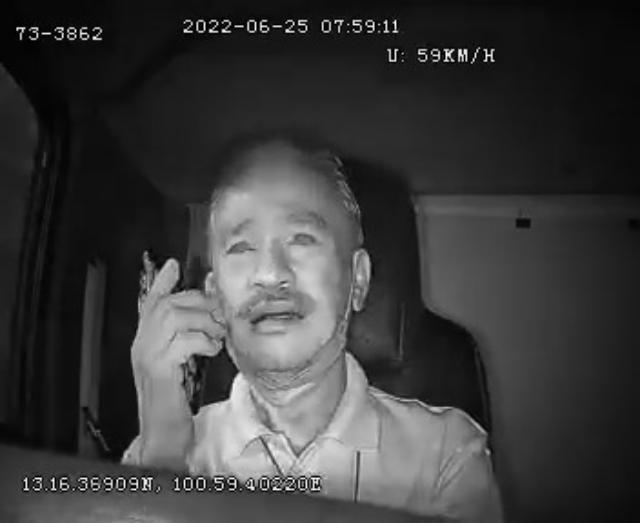PhoneUse: (132, 246, 208, 416)
SafeDriving: (218, 224, 263, 264), (281, 218, 326, 254)
